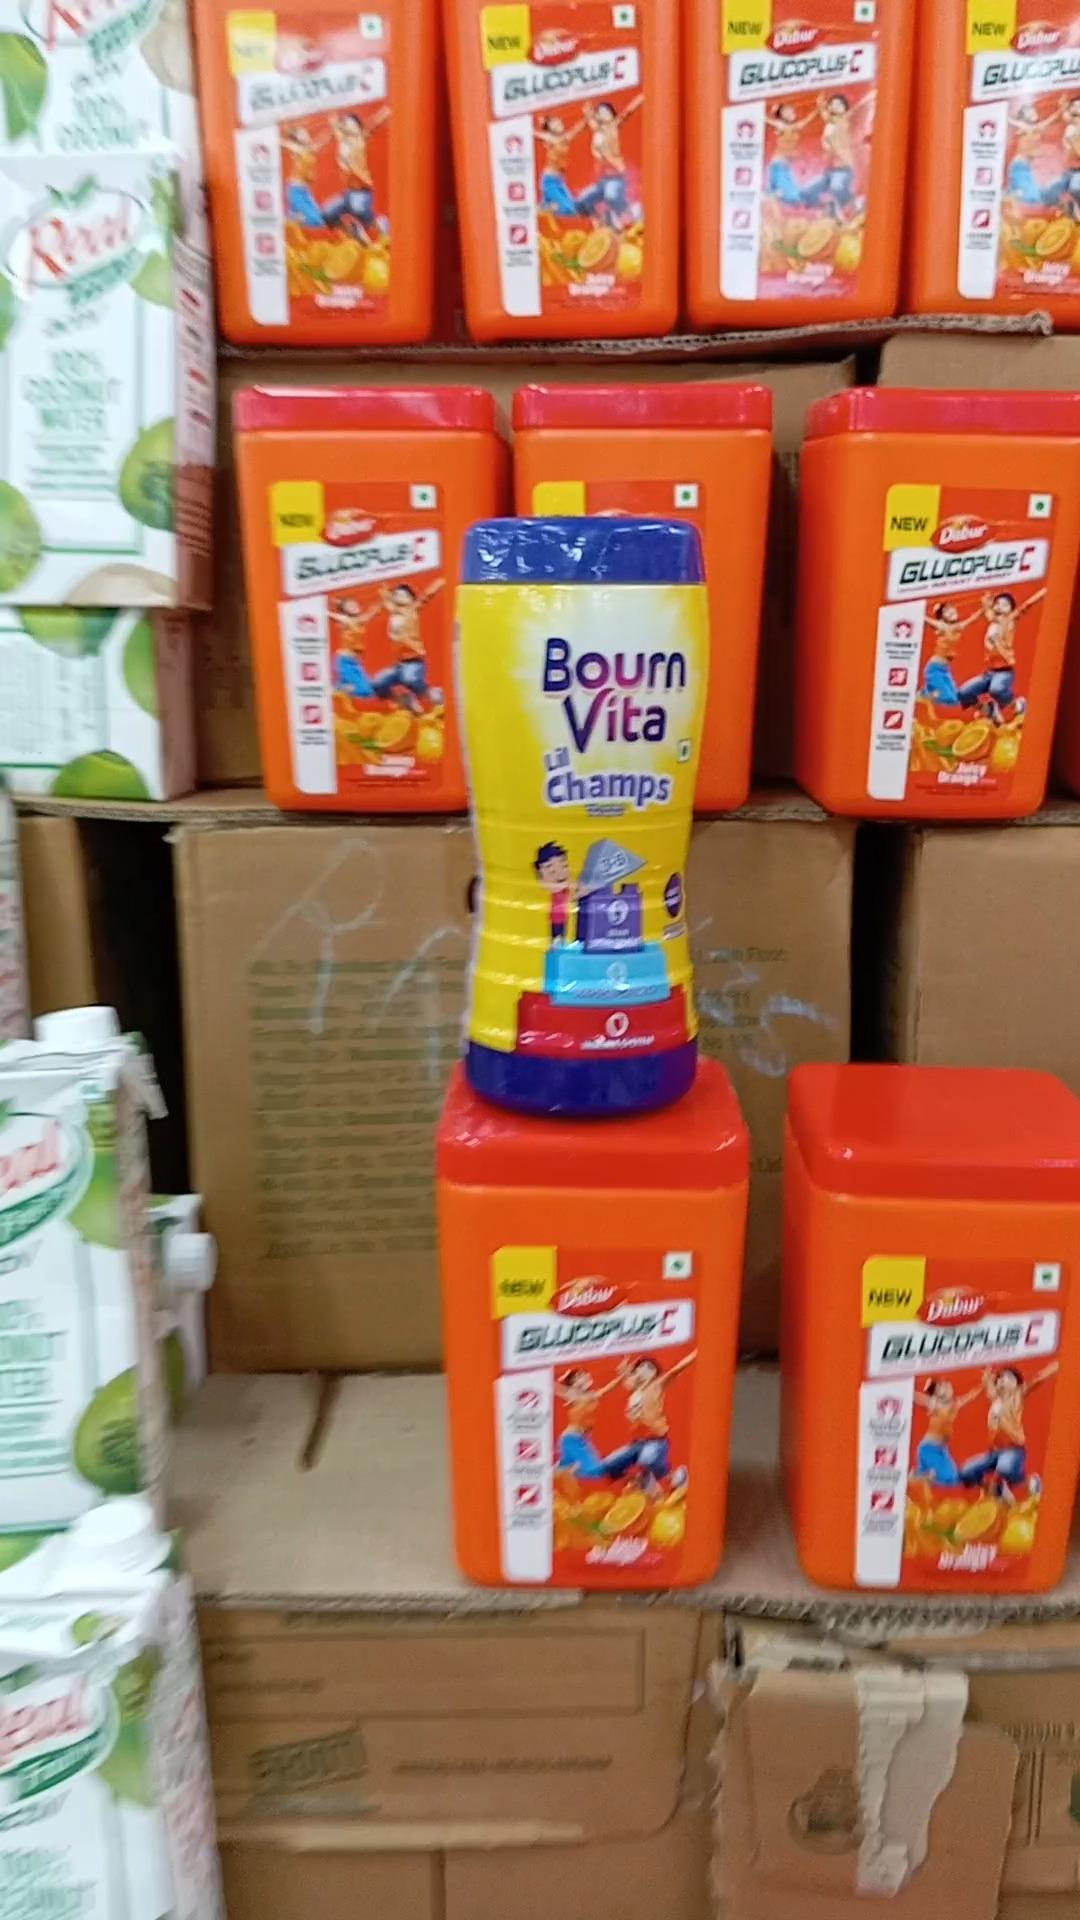BOURN_VITA_CHAMPS_500_G_JAR: (452, 517, 719, 1122)
